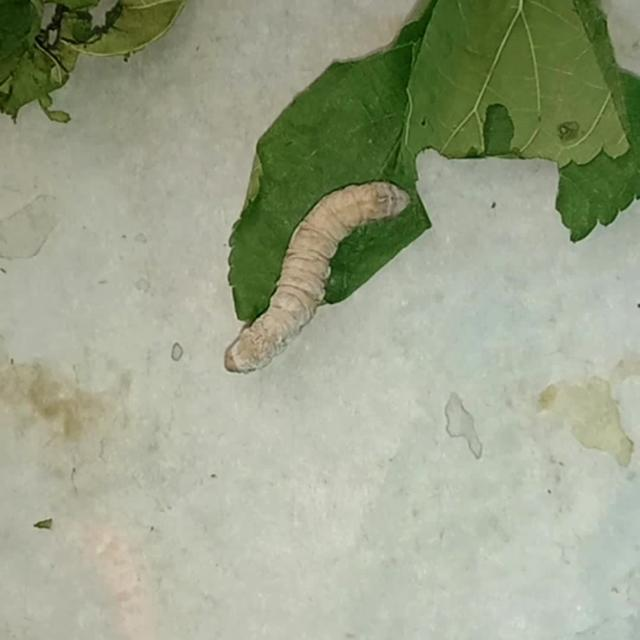Grasserie: (212, 174, 417, 384)
